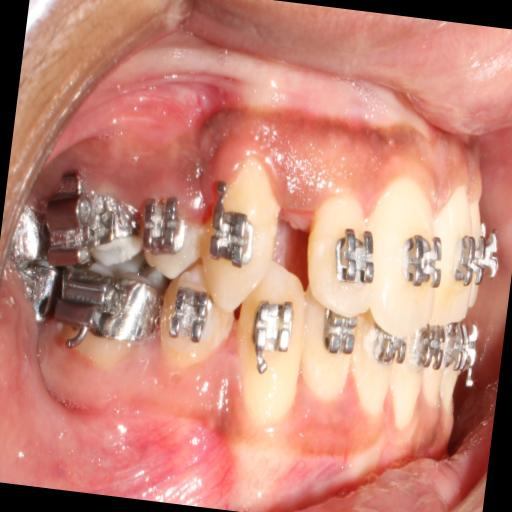correct_brace: (139, 195, 207, 279), (204, 203, 258, 278), (330, 224, 380, 296), (400, 228, 448, 288)
incorrect_brace: (302, 185, 382, 315), (138, 195, 187, 257)
